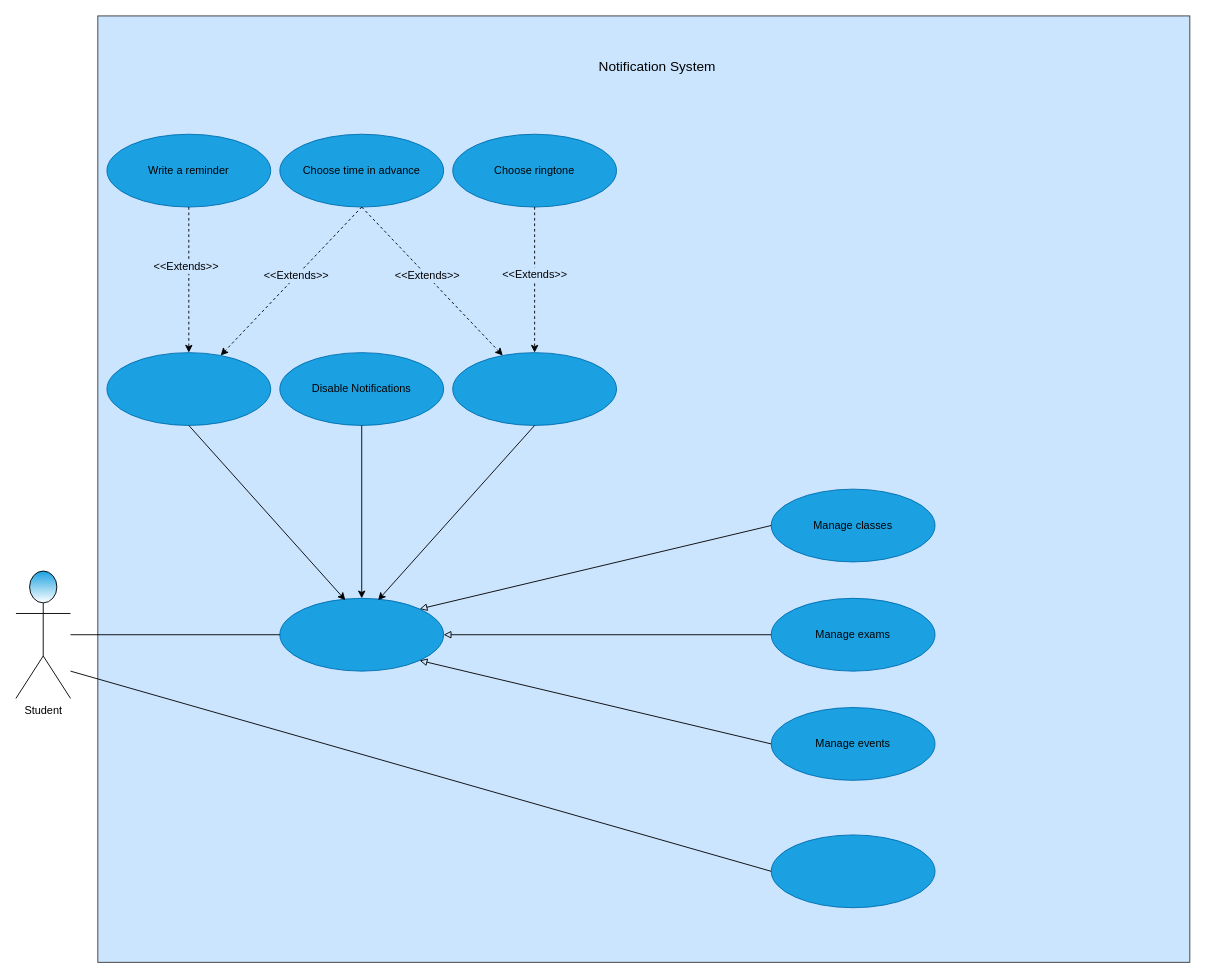
This 1206x978 diagram has some shape labels left out. Here are the shapes that lost their labels. From the top down, the box of each, then its label:
(106, 352, 271, 425): Enable Notifications
(452, 352, 617, 425): Personalize Notifications
(279, 597, 444, 671): Manage Notifications
(770, 834, 935, 908): Export monthly PDF
